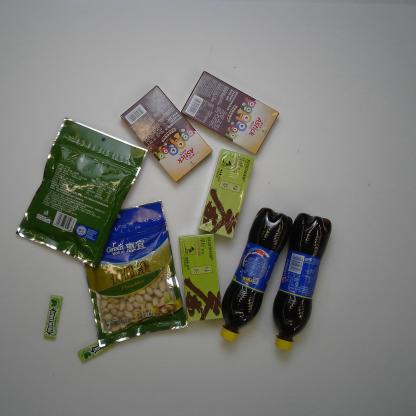Dessert: (117, 83, 215, 185), (178, 68, 282, 158)
Dried Fruit: (13, 115, 151, 269), (79, 197, 191, 350)
Drink: (216, 204, 294, 345), (269, 209, 334, 354)
Gum: (43, 293, 64, 340), (78, 339, 119, 362)
Instant Drink: (194, 143, 257, 243), (174, 230, 225, 324)
